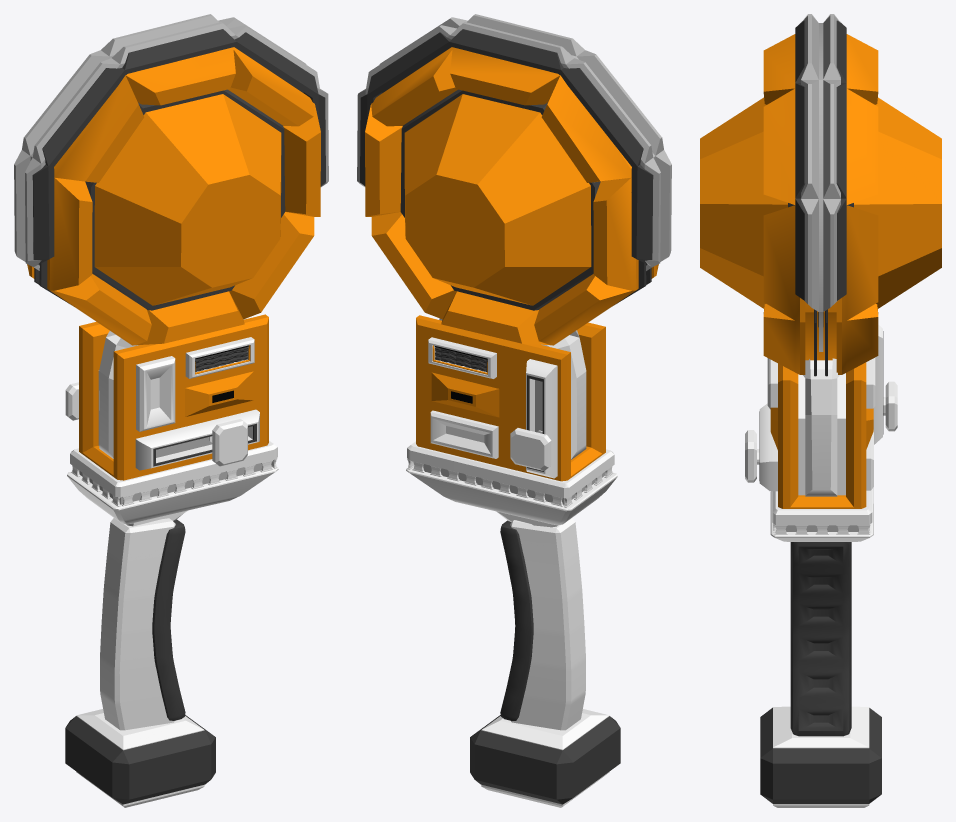
The model's file is LargeSaw.fbx.
The picture shows the model from 3 angles, left to right: view 1: azimuth 30°, elevation 25°; view 2: azimuth 150°, elevation 25°; view 3: azimuth 270°, elevation 25°; orthographic projection. The views are drawn at different scales.
Parts seen in each view (by area): view 1: LargeSaw; view 2: LargeSaw; view 3: LargeSaw.
Part boxes in pixels (x1,y1,x2,y2): LargeSaw: (14,14,328,807); LargeSaw: (357,14,671,807); LargeSaw: (700,14,941,807).
Size of the model in its own units: 1.1 by 2.6 by 0.7455.
